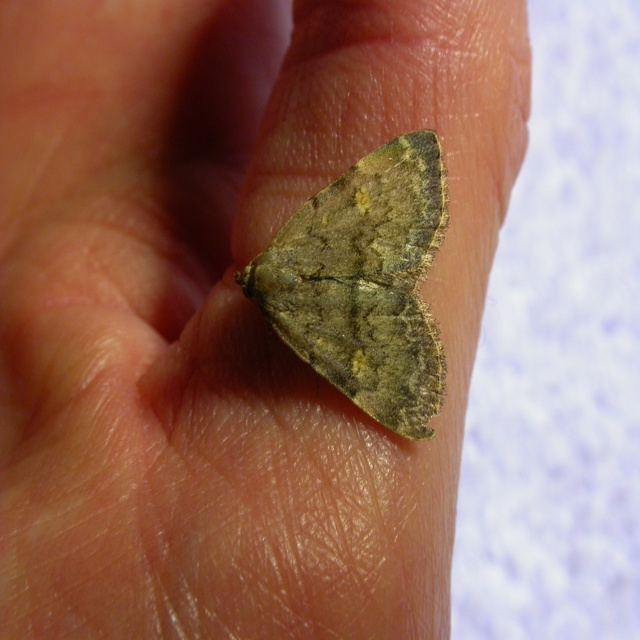Moths and butterflies: (234, 125, 450, 443)
